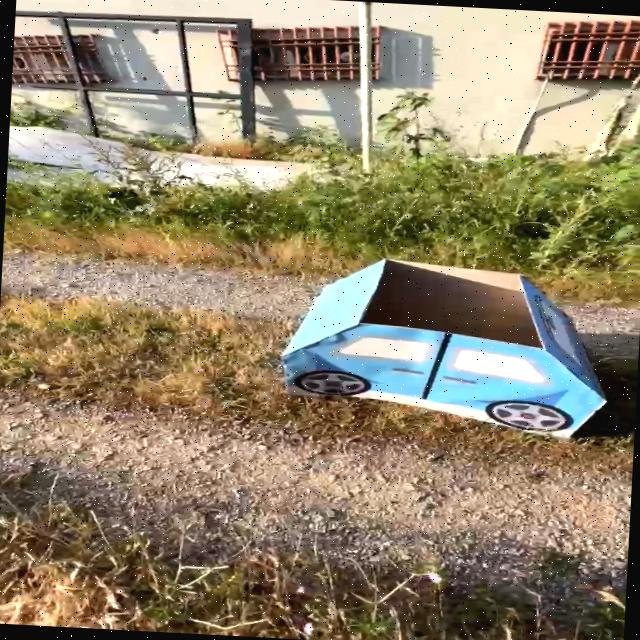blue_car: (222, 238, 640, 451)
